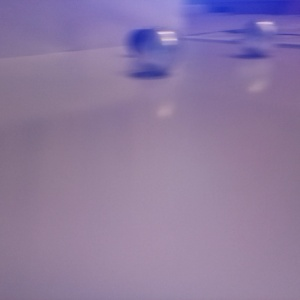alive_ball: (106, 10, 150, 56), (214, 13, 241, 42)
dead_ball: (188, 12, 216, 42)
